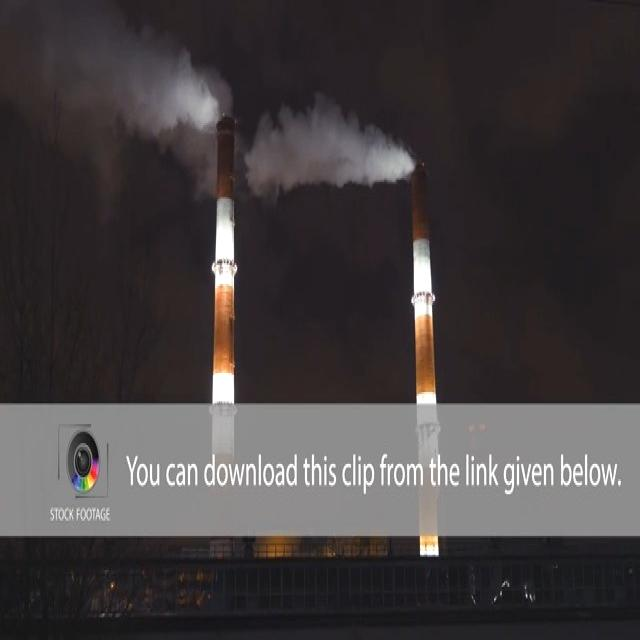smoke: (0, 2, 232, 193), (244, 95, 415, 195)
